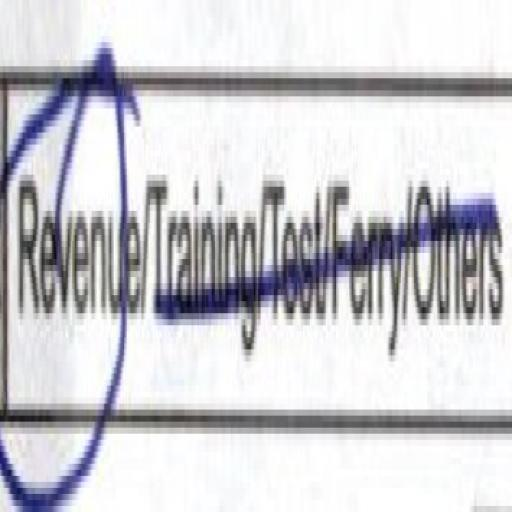check: (8, 22, 142, 484)
